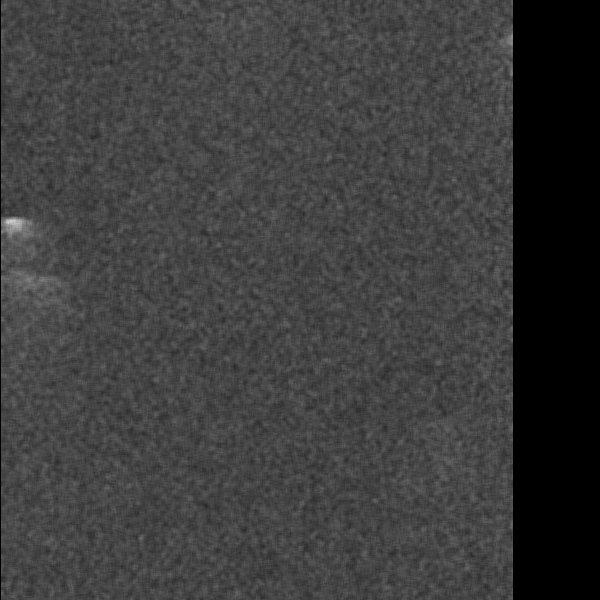spark: (4, 211, 27, 256), (31, 270, 39, 295)
